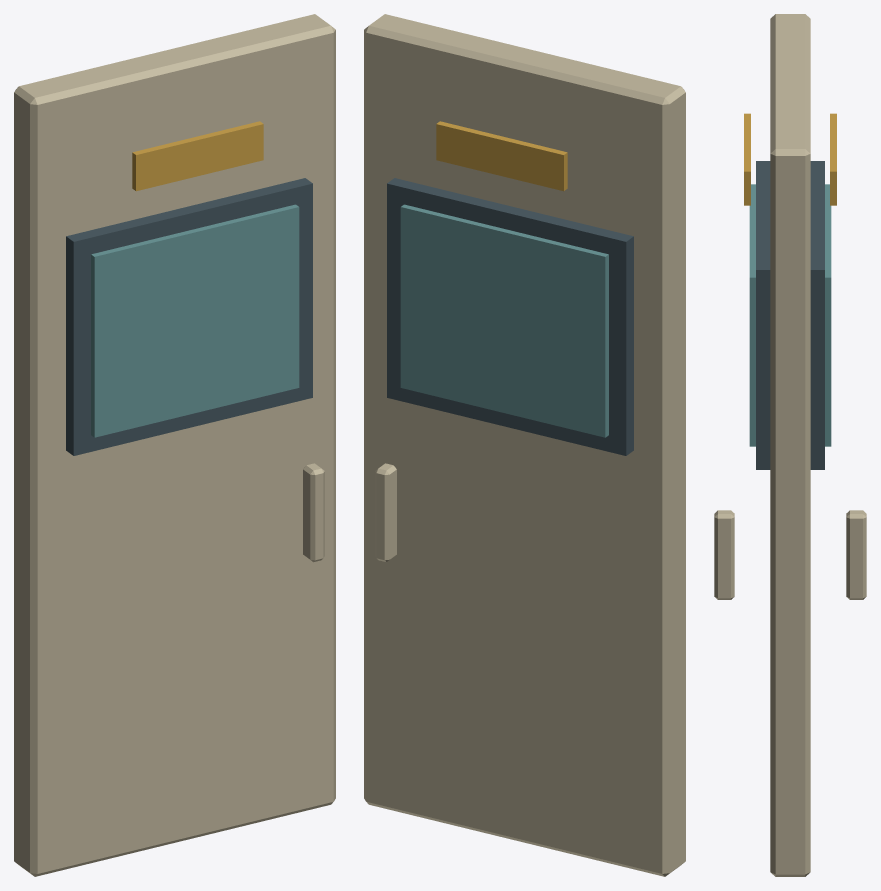
Rendered from door_restroom.glb.
3 views of the same model, side by side, from view 1: azimuth 30°, elevation 25°; view 2: azimuth 150°, elevation 25°; view 3: azimuth 270°, elevation 25° (orthographic). The views are drawn at different scales.
Parts seen in each view (by area): view 1: door_restroom; view 2: door_restroom; view 3: door_restroom.
Part boxes in pixels (x1=…): door_restroom: x1=14, y1=14, x2=335, y2=876; door_restroom: x1=364, y1=14, x2=685, y2=876; door_restroom: x1=714, y1=14, x2=866, y2=876.
Bounding box in the file's own units: 1.15 × 2.8 × 0.53.
